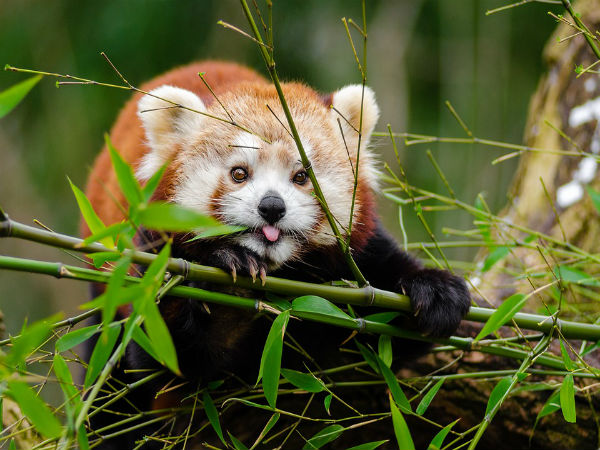red_panda: (79, 62, 473, 407)
